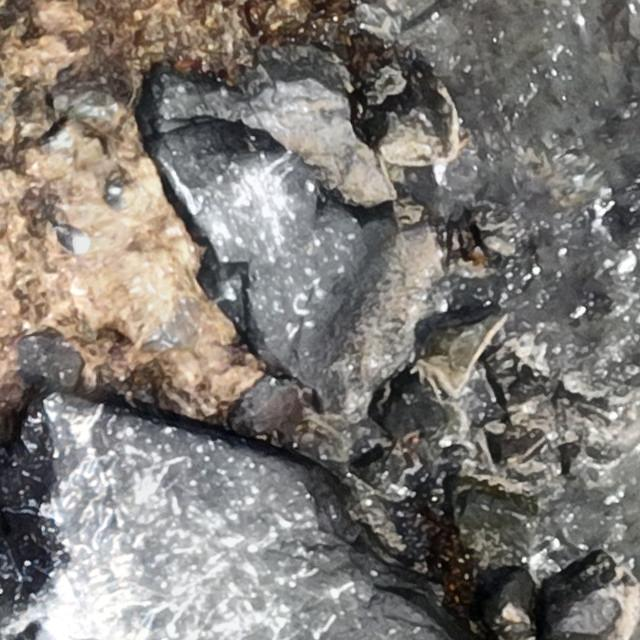umineko: (58, 226, 89, 253)
